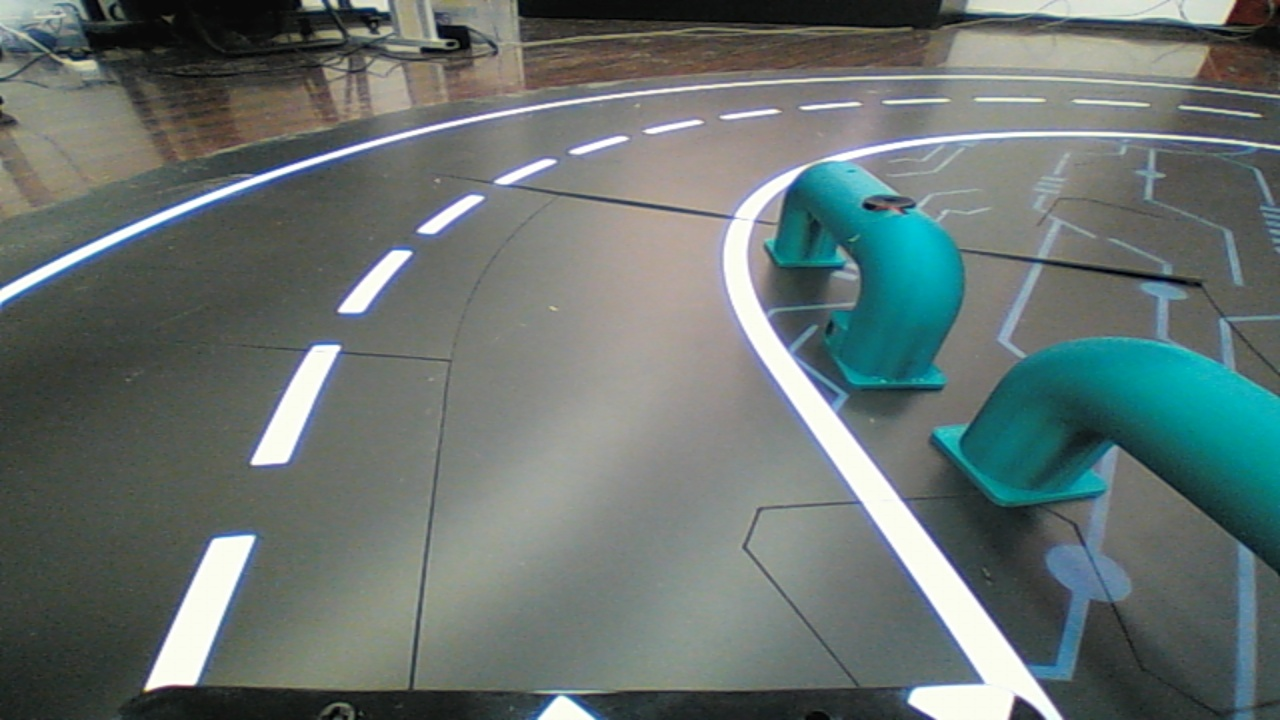Pedestrian crossing: (752, 130, 970, 397)
